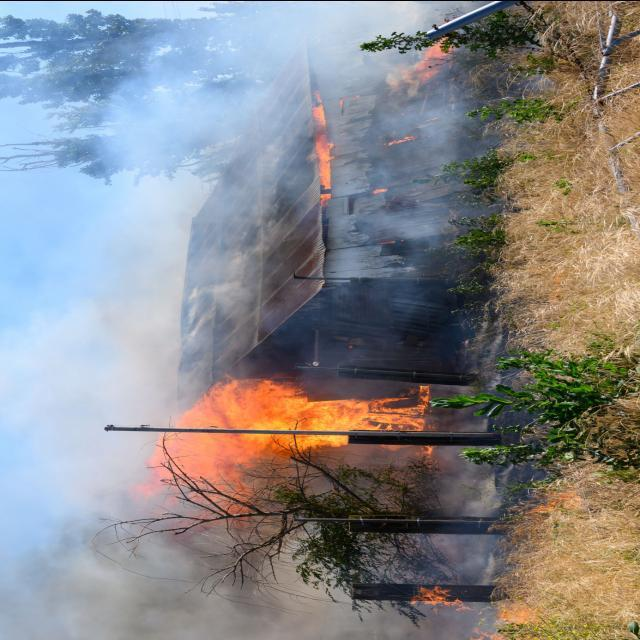Fire: (136, 367, 463, 507), (277, 25, 475, 208)
